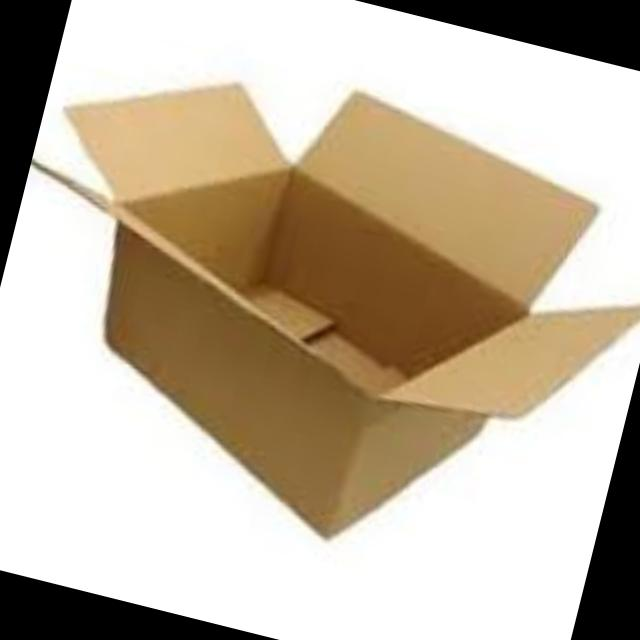cardboard paper: (73, 81, 640, 529)
